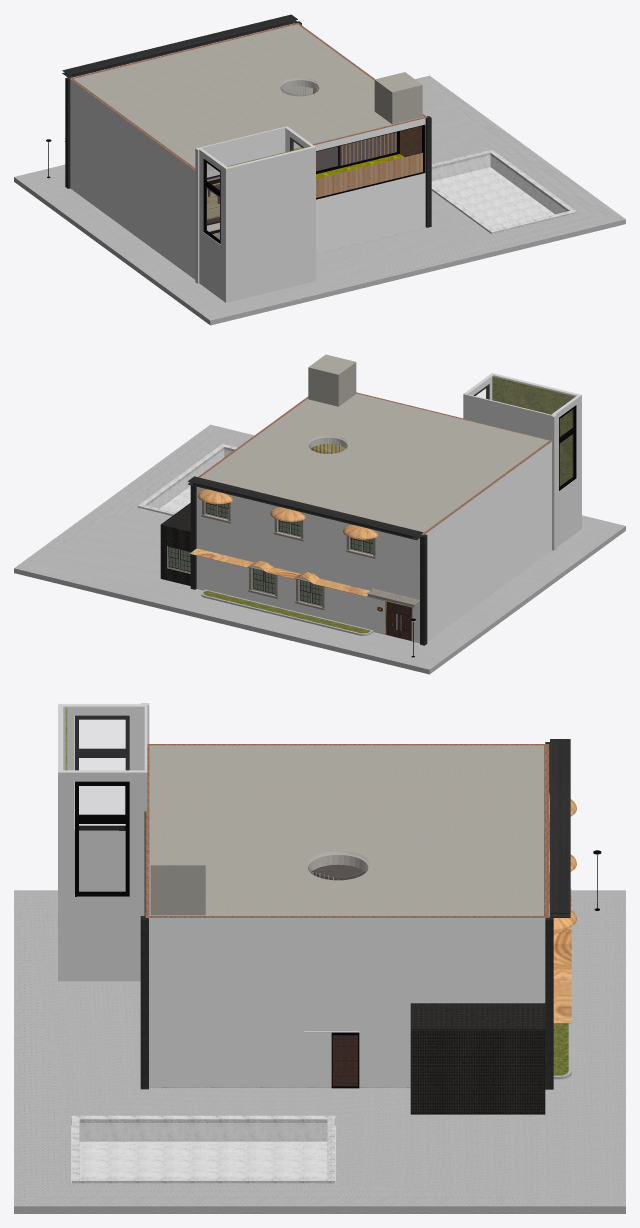
The model's file is building.glb.
3 renders of one model, top to bottom at view 1: azimuth 30°, elevation 25°; view 2: azimuth 150°, elevation 25°; view 3: azimuth 270°, elevation 25°, orthographic. The views are drawn at different scales.
Parts seen in each view (by area): view 1: base, ceiling.002, wall_outside_2, wall_plant, pool_side, floor_pool_water, Cube.139, Cube.355, water_tower, balcony_big_w_2_wall, Cube.326, livingroom_big_w_2_wall.002 (+8 smaller); view 2: wall_outside_2, ceiling.002, base, wall_plant, Cube.047, Cube.139, Cube.326, water_tower, Cube.355, pool_side, drying_wall, Cube.041 (+9 smaller); view 3: base, ceiling.002, wall_outside_2, pool_side, wall_plant, drying_wall, floor_pool_water, Cube.355, water_tower, Cube.139, livingroom_w.002, livingroom_w.003 (+10 smaller).
Part boxes in pixels (left/top/right/bottom): base: left=14, top=75, right=625, bottom=325; ceiling.002: left=73, top=24, right=423, bottom=168; wall_outside_2: left=69, top=23, right=427, bottom=279; wall_plant: left=199, top=127, right=315, bottom=302; pool_side: left=431, top=149, right=576, bottom=233; floor_pool_water: left=432, top=155, right=566, bottom=228; Cube.139: left=62, top=14, right=297, bottom=78; Cube.355: left=202, top=127, right=310, bottom=166; water_tower: left=374, top=72, right=422, bottom=124; balcony_big_w_2_wall: left=316, top=153, right=422, bottom=197; Cube.326: left=198, top=126, right=287, bottom=171; livingroom_big_w_2_wall.002: left=341, top=133, right=396, bottom=165; wall_outside_2: left=196, top=392, right=551, bottom=643; ceiling.002: left=200, top=393, right=549, bottom=533; base: left=14, top=424, right=625, bottom=674; wall_plant: left=464, top=373, right=581, bottom=546; Cube.047: left=492, top=376, right=575, bottom=486; Cube.139: left=187, top=476, right=423, bottom=540; Cube.326: left=463, top=393, right=553, bottom=440; water_tower: left=308, top=354, right=356, bottom=406; Cube.355: left=468, top=375, right=576, bottom=413; pool_side: left=137, top=444, right=237, bottom=515; drying_wall: left=160, top=503, right=190, bottom=585; Cube.041: left=190, top=548, right=369, bottom=596; base: left=14, top=890, right=625, bottom=1213; ceiling.002: left=149, top=745, right=544, bottom=916; wall_outside_2: left=145, top=744, right=549, bottom=1087; pool_side: left=71, top=1115, right=335, bottom=1183; wall_plant: left=58, top=704, right=144, bottom=981; drying_wall: left=410, top=1003, right=545, bottom=1114; floor_pool_water: left=80, top=1123, right=326, bottom=1176; Cube.355: left=63, top=707, right=143, bottom=769; water_tower: left=150, top=842, right=205, bottom=915; Cube.139: left=550, top=739, right=570, bottom=917; livingroom_w.002: left=80, top=824, right=124, bottom=890; livingroom_w.003: left=80, top=758, right=124, bottom=824.
Bounding box in the file's own units: 27.19 × 9.72 × 22.26.
Materials: 176 (102 with a texture image).
